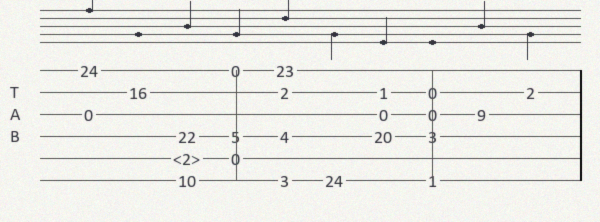0: (84, 107, 97, 122), (231, 151, 244, 166), (231, 63, 244, 78), (379, 107, 392, 122), (428, 107, 441, 122), (428, 85, 441, 100)
1: (379, 85, 392, 100), (428, 173, 441, 188)
10: (178, 173, 200, 188)
16: (129, 85, 151, 100)
2: (280, 85, 293, 100), (526, 85, 539, 100)
20: (374, 129, 396, 144)
22: (178, 129, 200, 144)
23: (276, 63, 298, 78)
24: (80, 63, 102, 78), (325, 173, 347, 188)
3: (280, 173, 293, 188), (428, 129, 441, 144)
4: (280, 129, 293, 144)
5: (231, 129, 244, 144)
9: (477, 107, 490, 122)
harmonic: (173, 151, 204, 166)
